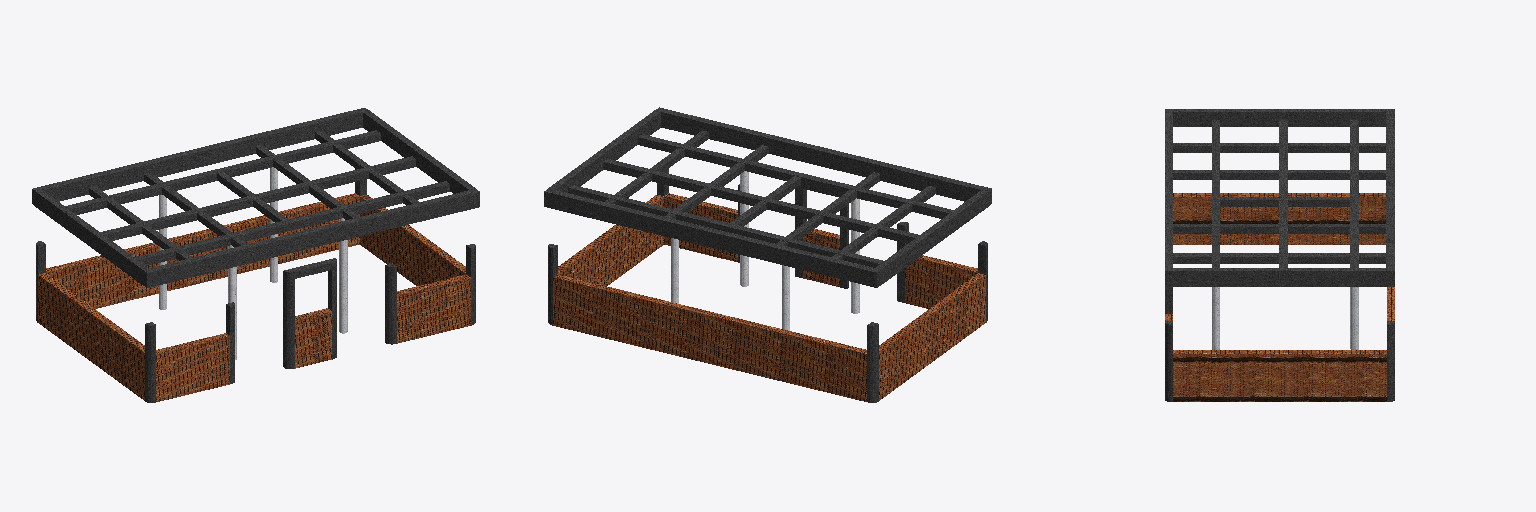
The picture shows the model from 3 angles: view 1: azimuth 30°, elevation 25°; view 2: azimuth 150°, elevation 25°; view 3: azimuth 270°, elevation 25°; orthographic projection.
Parts seen in each view (by area): view 1: techo:pCylinder6; view 2: techo:pCylinder6; view 3: techo:pCylinder6.
Boxes of the visible parts, <box> form: techo:pCylinder6: <box>32,108,479,402</box>; techo:pCylinder6: <box>544,107,991,402</box>; techo:pCylinder6: <box>1165,109,1394,401</box>.
Size of the model in its own units: 180 by 68.18 by 108.
Materials: 4 (3 with a texture image).